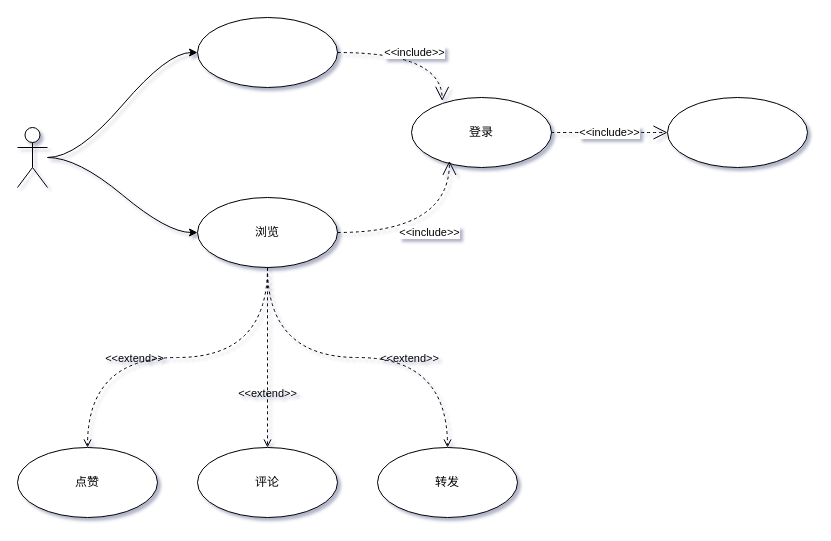
Some shapes in this 831 by 541 pixel diagram are drawn without their labels. Here are the shapes that lost their labels. From the top down, the centre of each, then its label:
At (267,52): "发布".
At (737,132): "注册".
At (32,157): "用户".
